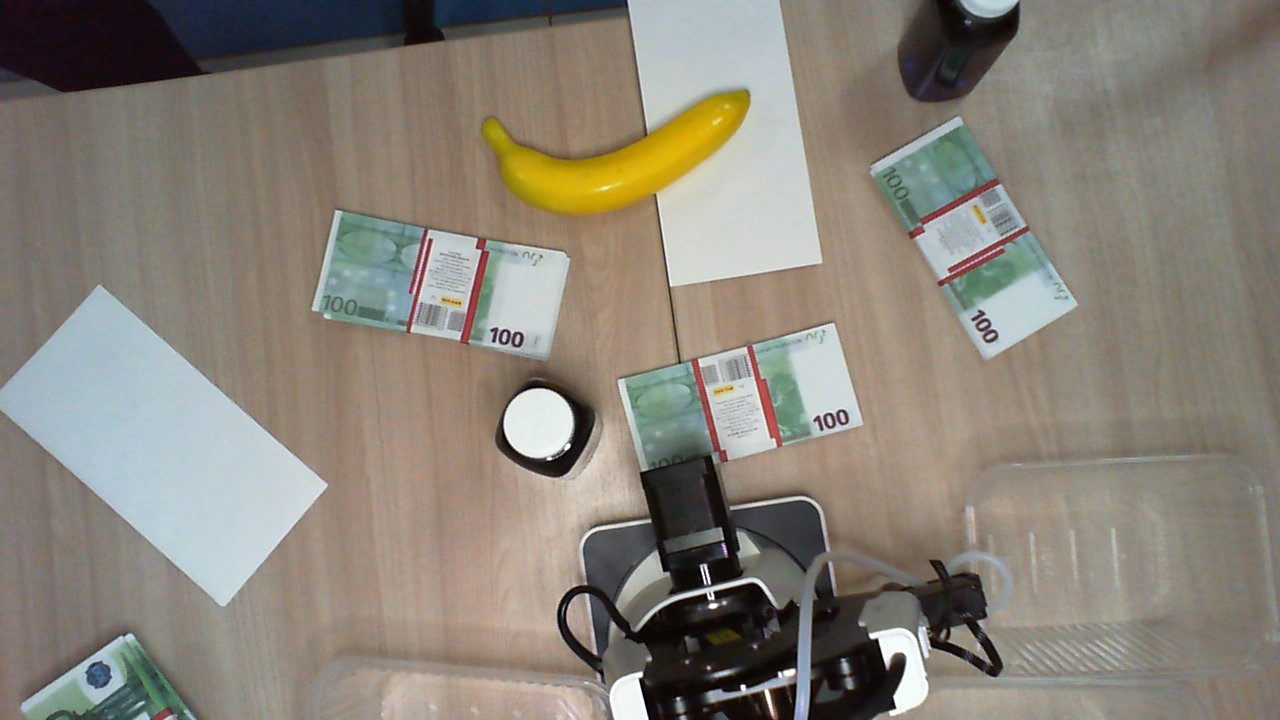banana: (480, 87, 758, 218)
bottle: (493, 380, 596, 476), (936, 1, 1016, 45)
convert: (2, 280, 334, 609), (626, 1, 827, 293)
money: (870, 116, 1073, 364), (613, 320, 869, 474), (306, 215, 568, 360), (21, 631, 203, 720)
